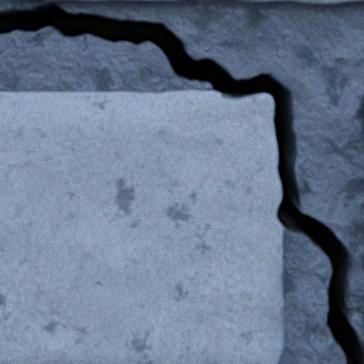brick: (238, 0, 363, 4), (361, 93, 363, 126), (123, 0, 180, 1), (76, 0, 108, 1)
broken_brick: (0, 90, 283, 363)
crack: (0, 0, 363, 363)
